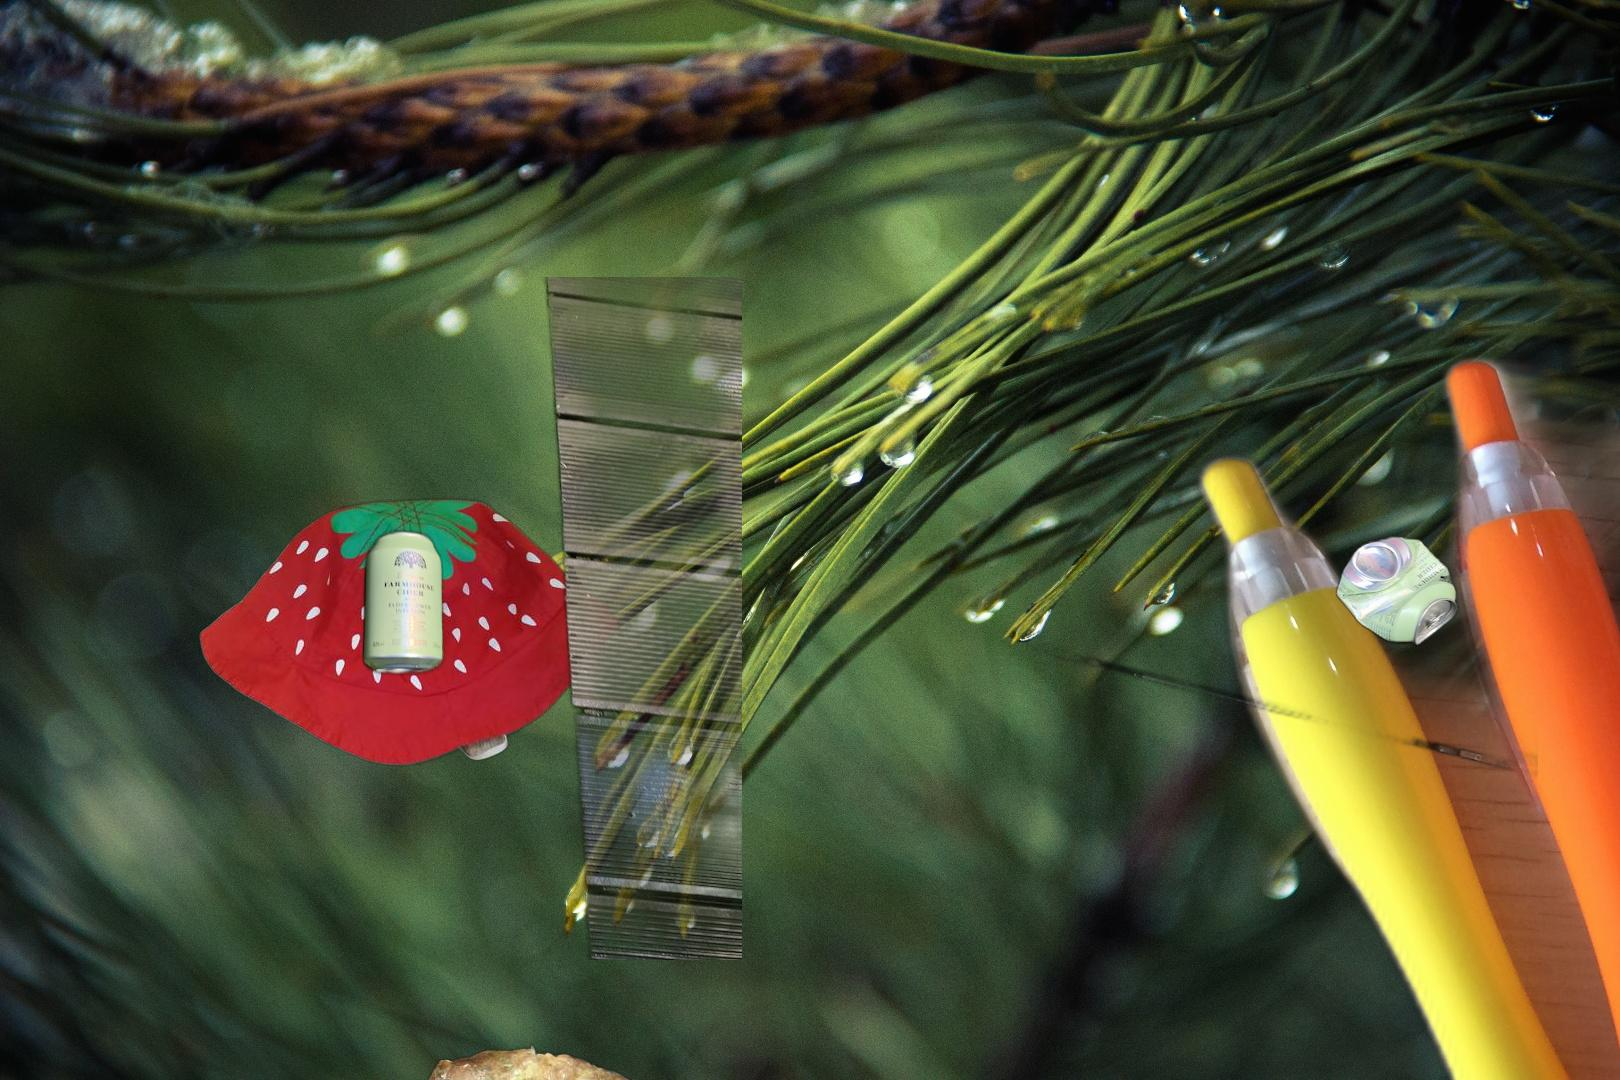biological: (404, 1042, 633, 1080)
clothes: (197, 495, 617, 769)
metal-cans: (1026, 206, 1538, 889), (358, 277, 742, 960)
penholder: (1181, 189, 1620, 1080)
